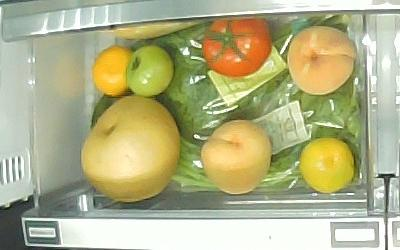peach: (201, 120, 272, 194), (287, 26, 356, 97)
pear: (81, 96, 182, 203)
tangerine: (300, 137, 355, 194), (92, 45, 134, 96)
tomato: (203, 15, 274, 77), (125, 45, 175, 99)
